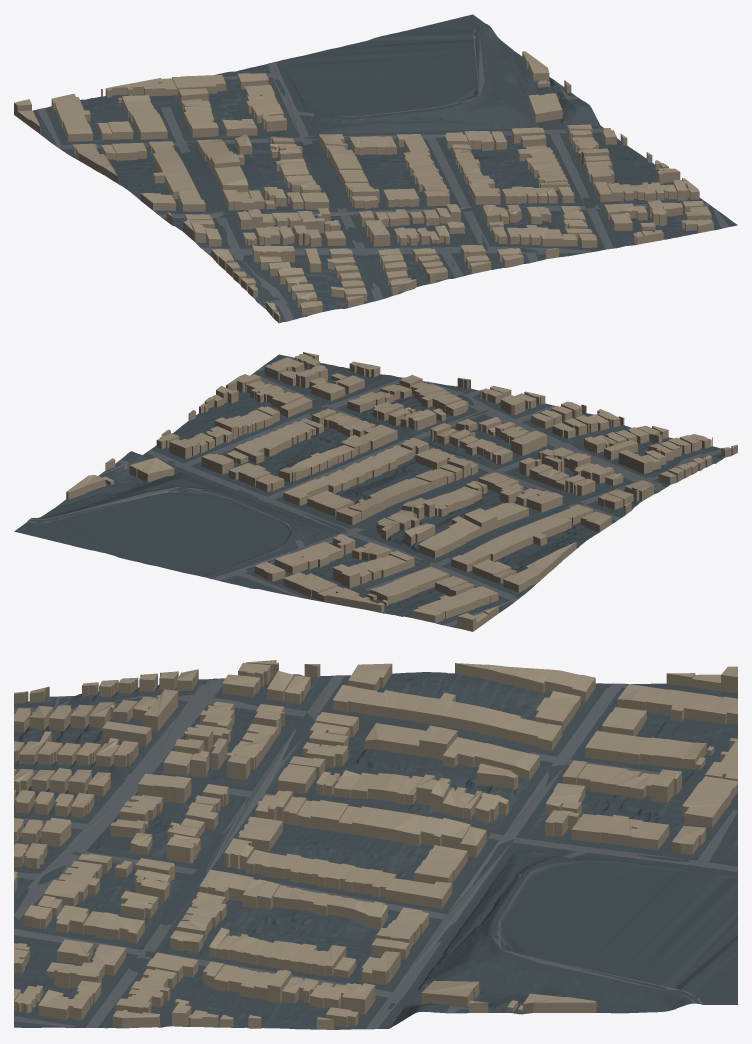
File: epsg26910-1436-10874.lod0.glb
The picture shows the model from 3 angles, top to bottom: view 1: azimuth 30°, elevation 25°; view 2: azimuth 150°, elevation 25°; view 3: azimuth 270°, elevation 25°; orthographic projection. The views are drawn at different scales.
Visible parts, largest first — view 1: epsg26910-1436-10874-lod0; view 2: epsg26910-1436-10874-lod0; view 3: epsg26910-1436-10874-lod0.
Part boxes in pixels (x1=…): epsg26910-1436-10874-lod0: x1=14, y1=14, x2=737, y2=323; epsg26910-1436-10874-lod0: x1=14, y1=352, x2=737, y2=631; epsg26910-1436-10874-lod0: x1=14, y1=660, x2=737, y2=1029.
Bounding box in the file's own units: 384 × 37.45 × 384.
